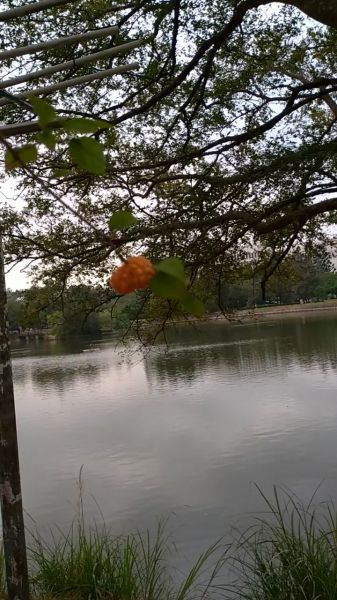eggs: (101, 250, 155, 297)
